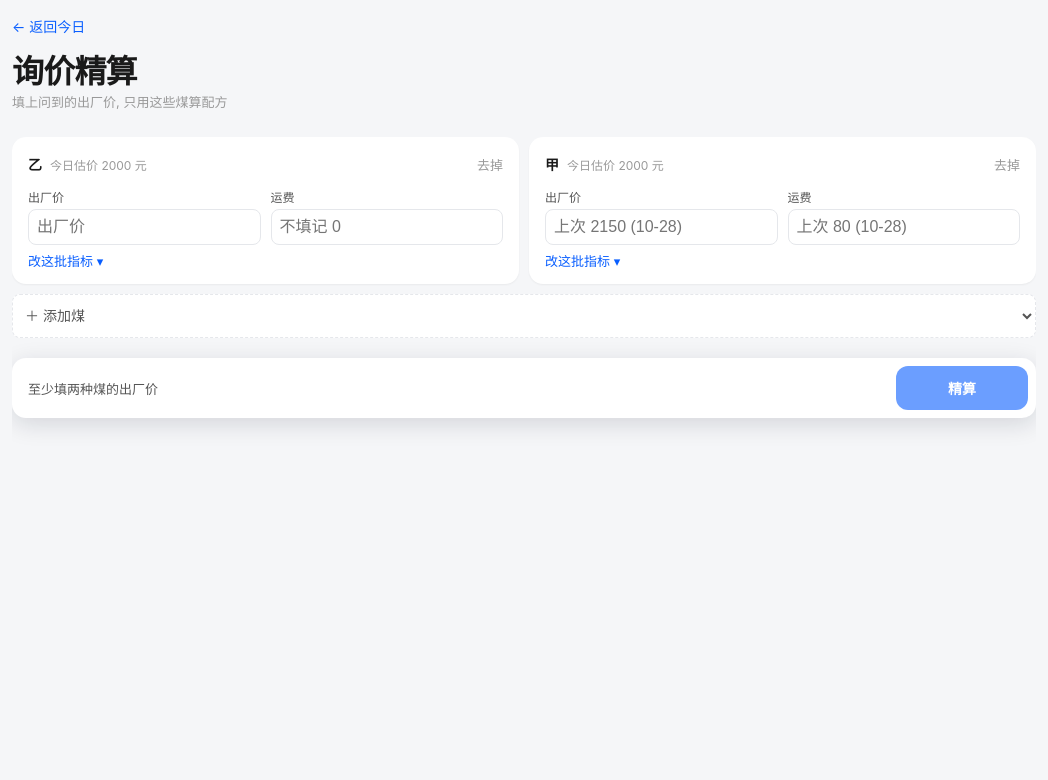
Test: 不可行时保留具体剔煤提示, 方便补齐指标后重算
Expected: the dropdown named "添加煤" is shown, x1=12 y1=294 x2=1036 y2=338
Type "2150" into the field named "甲 出厂价" at point(661, 227), box x1=545 y1=209 x2=778 y2=245
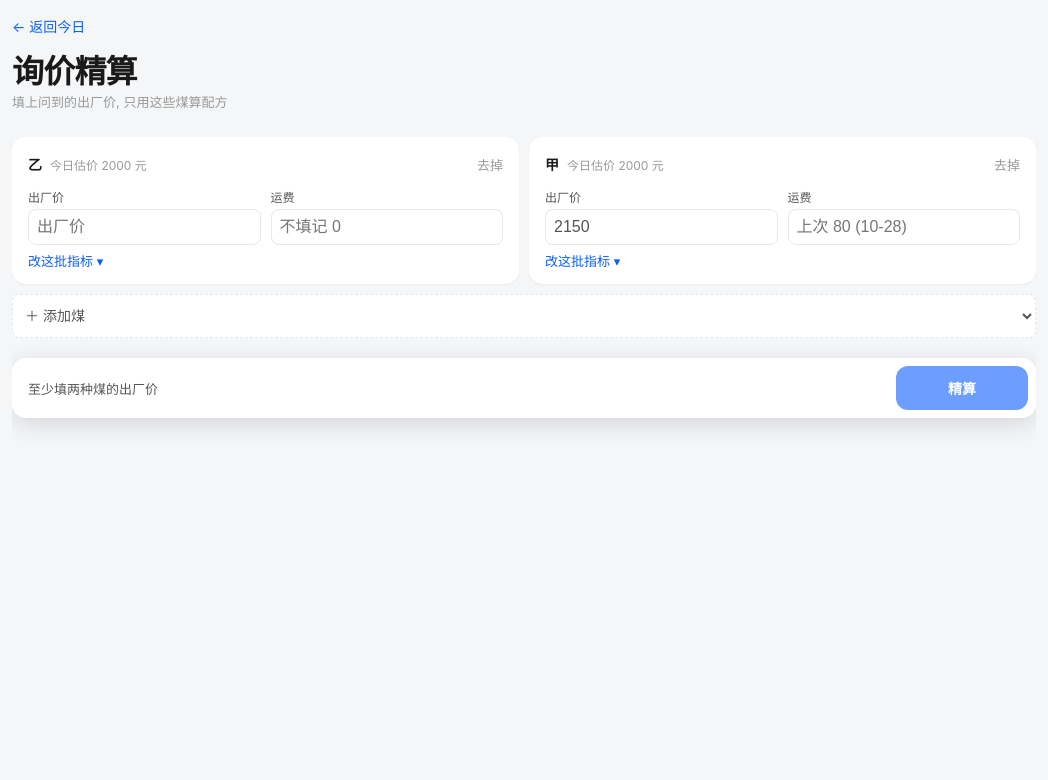
Type "1980" into the field named "乙 出厂价" at point(144, 227), box x1=28 y1=209 x2=260 y2=245
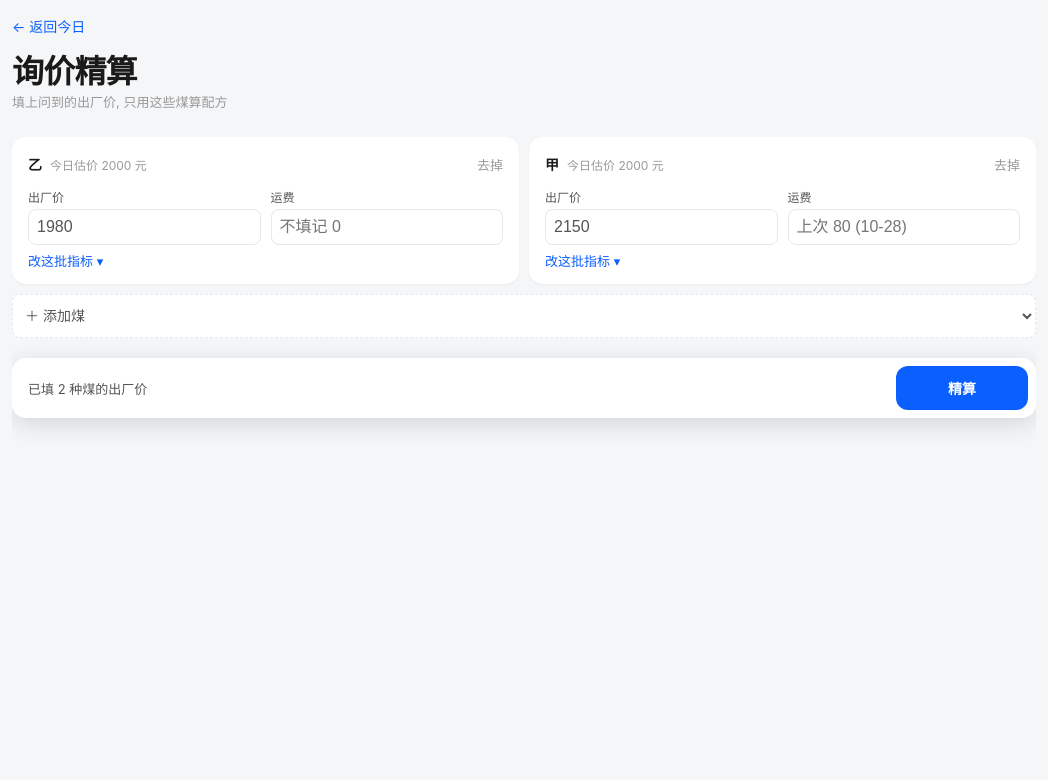
Click the button "精算" at point(962, 388), box x1=896 y1=366 x2=1028 y2=410
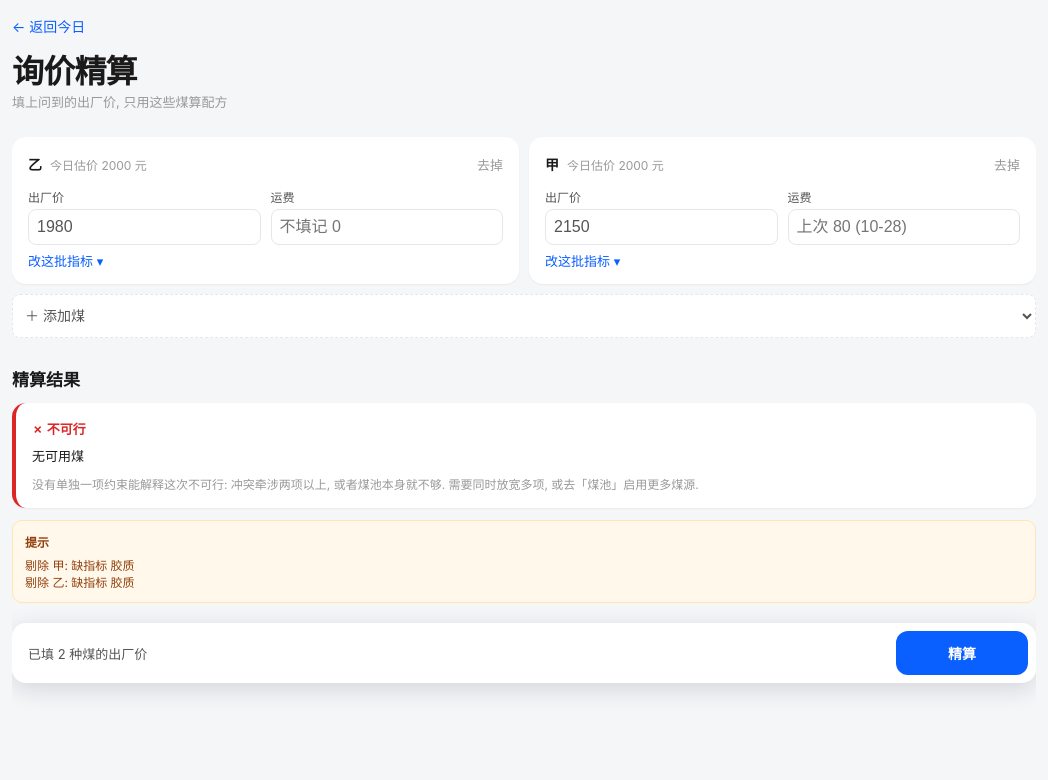
Now the text "无可用煤" is shown, box x1=32 y1=448 x2=84 y2=464
Now the text "剔除 甲: 缺指标 胶质" is shown, box x1=25 y1=558 x2=135 y2=573
Now the text "剔除 乙: 缺指标 胶质" is shown, box x1=25 y1=575 x2=135 y2=590
